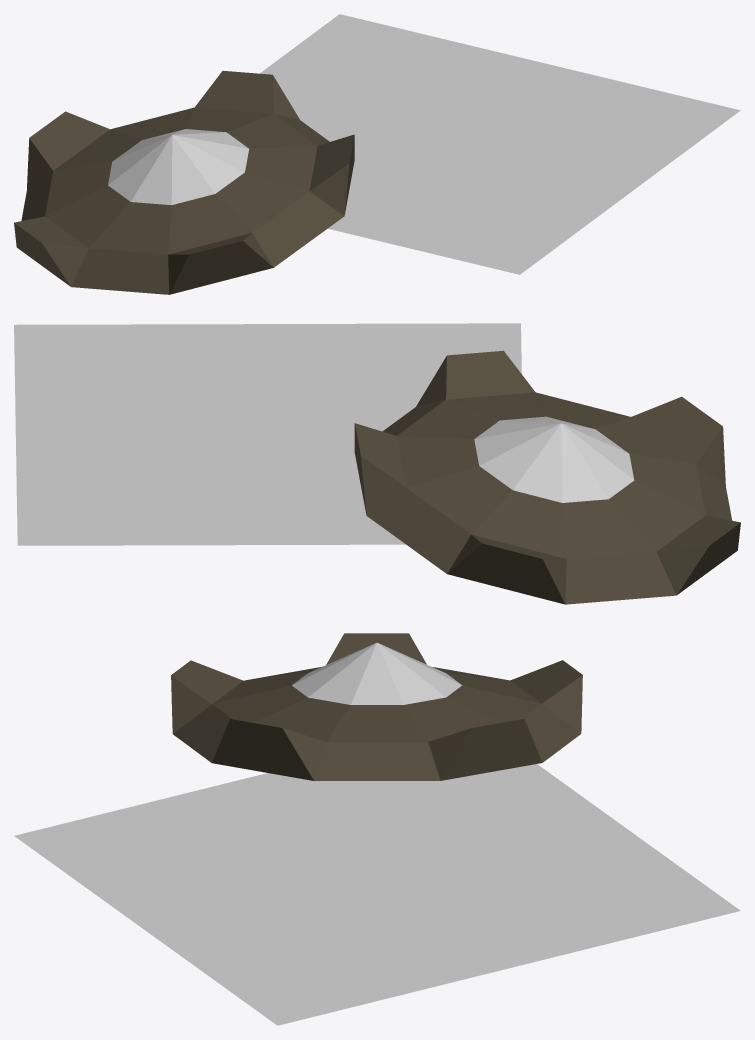
File: ITMI_INNOSEYE_DISCHARGED_MIS.OBJ
3 renders of one model, top to bottom at view 1: azimuth 30°, elevation 25°; view 2: azimuth 150°, elevation 25°; view 3: azimuth 270°, elevation 25°, orthographic. The views are drawn at different scales.
Visible parts, largest first — view 1: ITMI_INNOSEYE_DISCHARGED_MIS; view 2: ITMI_INNOSEYE_DISCHARGED_MIS; view 3: ITMI_INNOSEYE_DISCHARGED_MIS.
Boxes of the visible parts, x1=… form: ITMI_INNOSEYE_DISCHARGED_MIS: x1=14, y1=14, x2=740, y2=294; ITMI_INNOSEYE_DISCHARGED_MIS: x1=14, y1=323, x2=740, y2=604; ITMI_INNOSEYE_DISCHARGED_MIS: x1=14, y1=633, x2=740, y2=1025.
Bounding box in the file's own units: 0.1878 × 0.027 × 0.1515.
